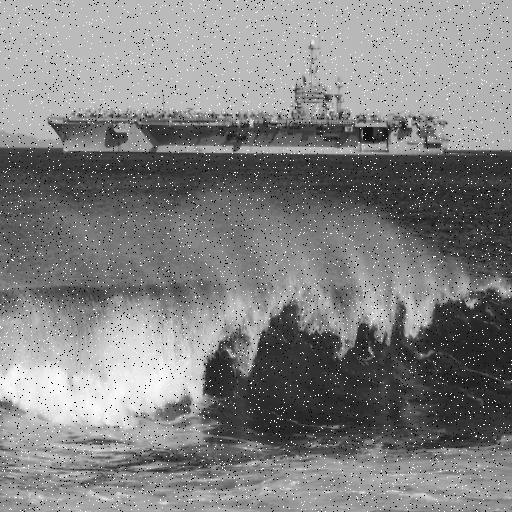Portanaves: (48, 36, 454, 159)
